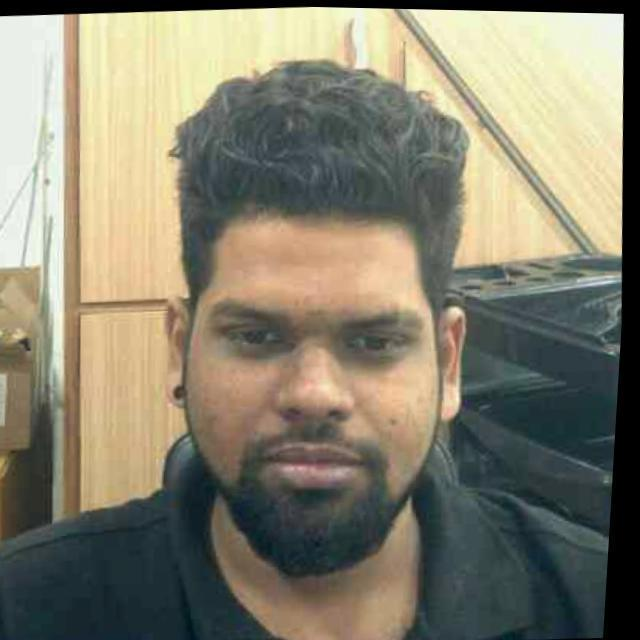puffy_eyes: (345, 340, 414, 368)
